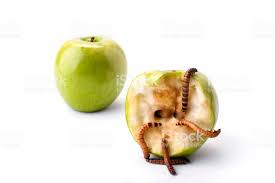apple: (58, 40, 127, 114)
damaged_apple: (125, 68, 223, 176)
